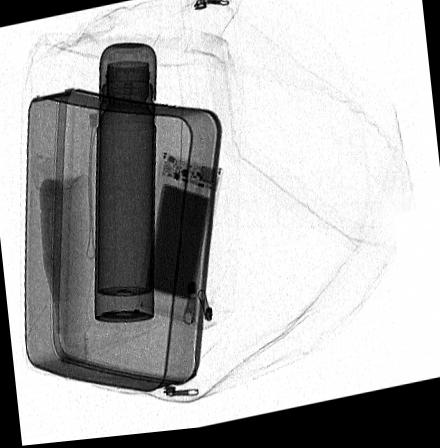Powerbank: (135, 154, 224, 327)
